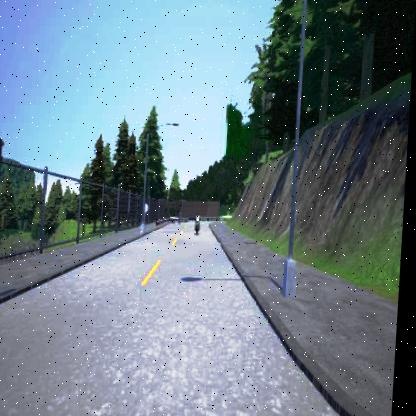motobike: (197, 212, 204, 233)
